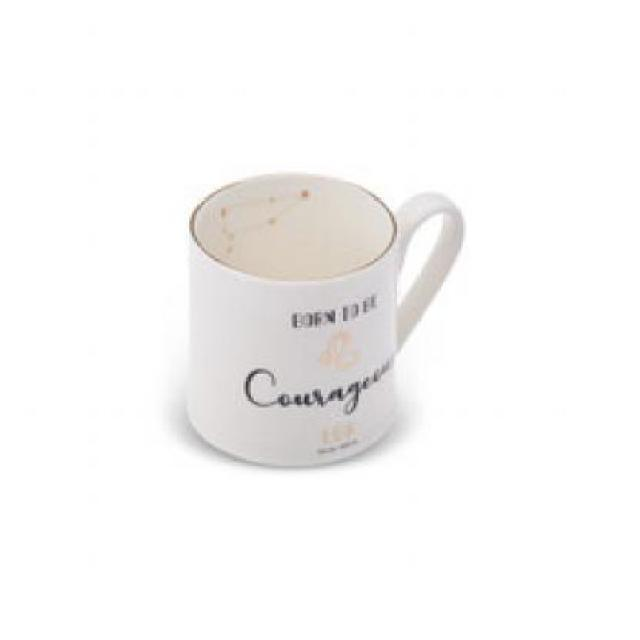taza: (186, 170, 466, 468)
